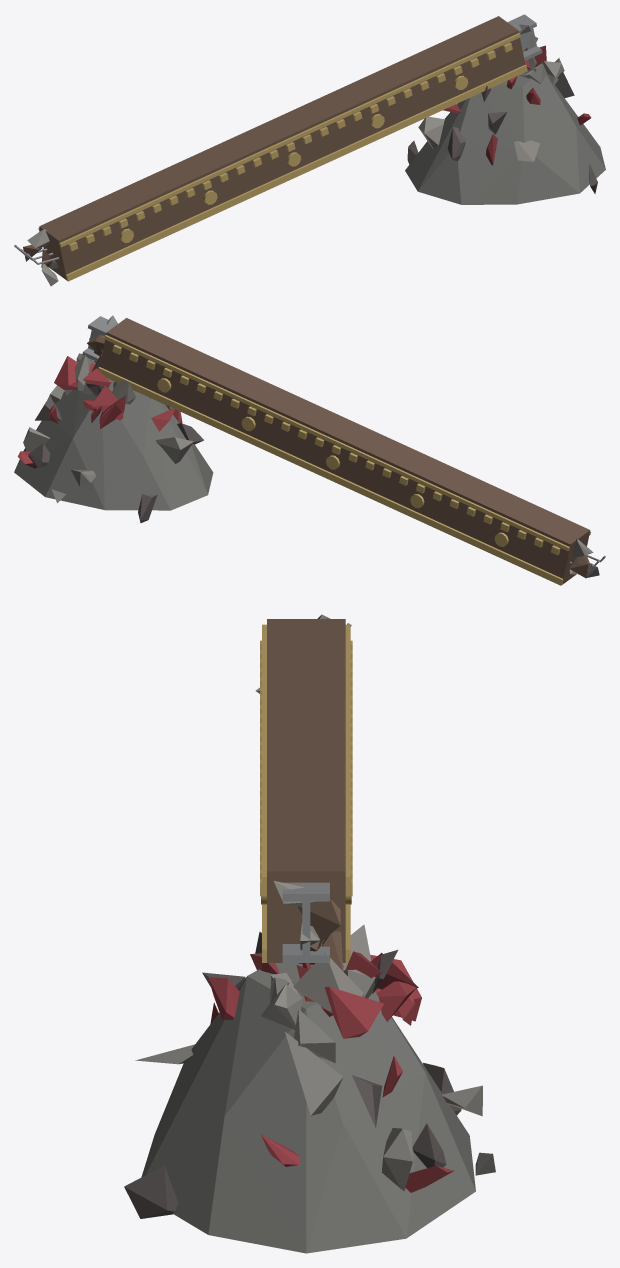
The model's file is debris_beam.glb.
The picture shows the model from 3 angles, top to bottom: view 1: azimuth 30°, elevation 25°; view 2: azimuth 150°, elevation 25°; view 3: azimuth 270°, elevation 25°; orthographic projection. The views are drawn at different scales.
Visible parts, largest first — view 1: ceiling_theater__debris_beam__solid, concrete_dark__debris_beam__solid, brass__debris_beam__solid, concrete__debris_beam__solid, stone__debris_beam__solid, wall_theater__debris_beam__solid, steel__debris_beam__solid; view 2: ceiling_theater__debris_beam__solid, concrete_dark__debris_beam__solid, brass__debris_beam__solid, concrete__debris_beam__solid, wall_theater__debris_beam__solid, stone__debris_beam__solid, steel__debris_beam__solid; view 3: concrete_dark__debris_beam__solid, ceiling_theater__debris_beam__solid, concrete__debris_beam__solid, wall_theater__debris_beam__solid, stone__debris_beam__solid, brass__debris_beam__solid, steel__debris_beam__solid.
Part boxes in pixels (x1,y1,x2,y2): ceiling_theater__debris_beam__solid: (23, 16, 527, 280); concrete_dark__debris_beam__solid: (405, 74, 605, 204); brass__debris_beam__solid: (38, 33, 527, 281); concrete__debris_beam__solid: (27, 24, 574, 286); stone__debris_beam__solid: (407, 86, 597, 193); wall_theater__debris_beam__solid: (443, 45, 591, 165); steel__debris_beam__solid: (14, 14, 542, 264); ceiling_theater__debris_beam__solid: (87, 318, 591, 584); concrete_dark__debris_beam__solid: (14, 378, 213, 510); brass__debris_beam__solid: (98, 335, 590, 585); concrete__debris_beam__solid: (23, 315, 599, 577); wall_theater__debris_beam__solid: (17, 356, 182, 468); stone__debris_beam__solid: (28, 383, 203, 522); steel__debris_beam__solid: (82, 316, 605, 571); concrete_dark__debris_beam__solid: (141, 963, 475, 1253); ceiling_theater__debris_beam__solid: (267, 619, 345, 970); concrete__debris_beam__solid: (135, 614, 495, 1191); wall_theater__debris_beam__solid: (208, 941, 454, 1192); stone__debris_beam__solid: (124, 932, 461, 1218); brass__debris_beam__solid: (260, 624, 352, 962); steel__debris_beam__solid: (282, 623, 351, 962).
Bounding box in the file's own units: 6.75 × 1.76 × 1.89.
